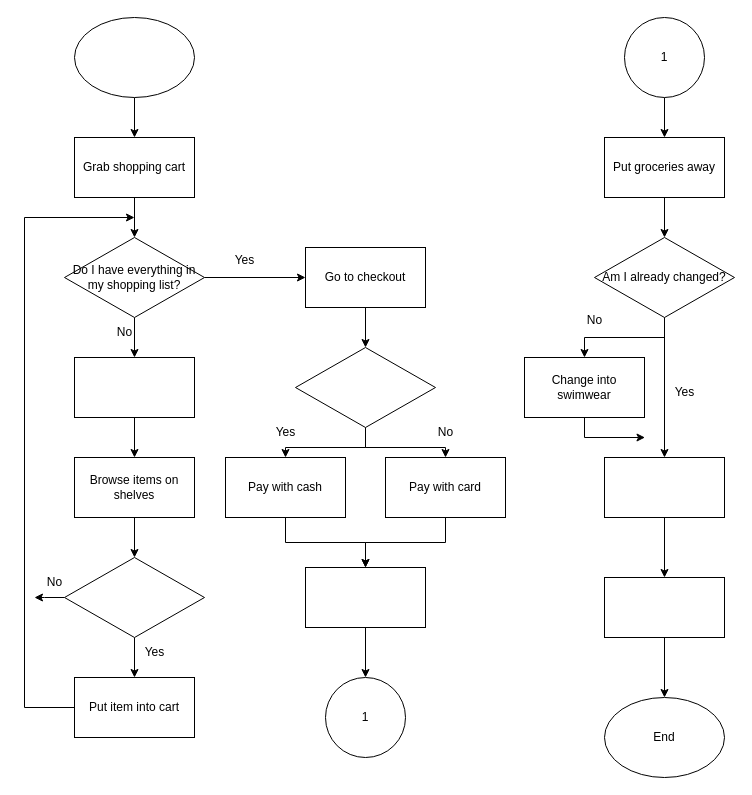
The diagram is 752 pixels wide and 795 high, and some of its shapes have lost their labels. Here are the shapes that lost their labels. From the top down, the box of each, then its label:
(74, 16, 194, 98): Start
(74, 356, 194, 418): Wander store
(294, 346, 436, 428): Do I have cash?
(604, 456, 724, 518): Drive to community pool
(64, 556, 204, 638): Is this item on my shopping list?
(304, 566, 426, 628): Leave store and go home
(604, 576, 724, 638): Swim!
